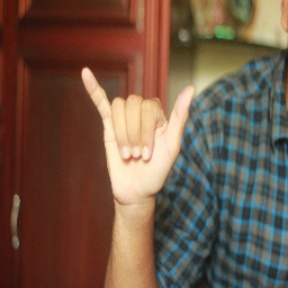J: (75, 63, 199, 200)
